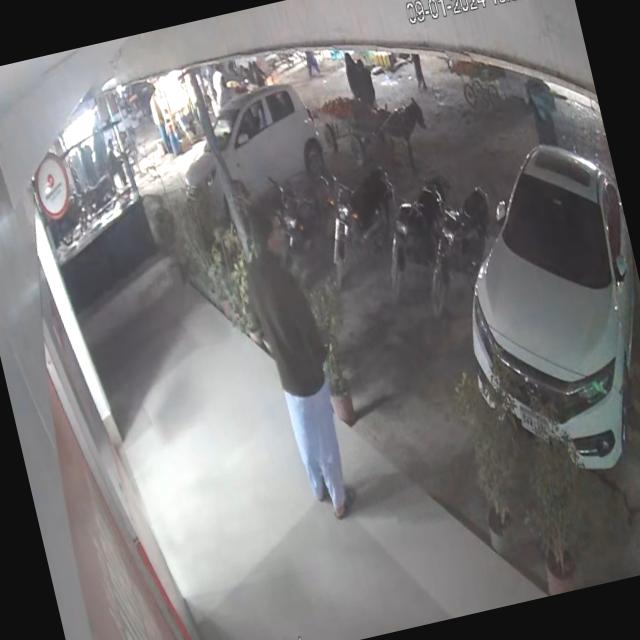Car: (424, 111, 640, 511), (167, 74, 353, 235)
Motorcycle: (313, 146, 416, 294), (402, 172, 494, 317), (370, 184, 434, 307)
